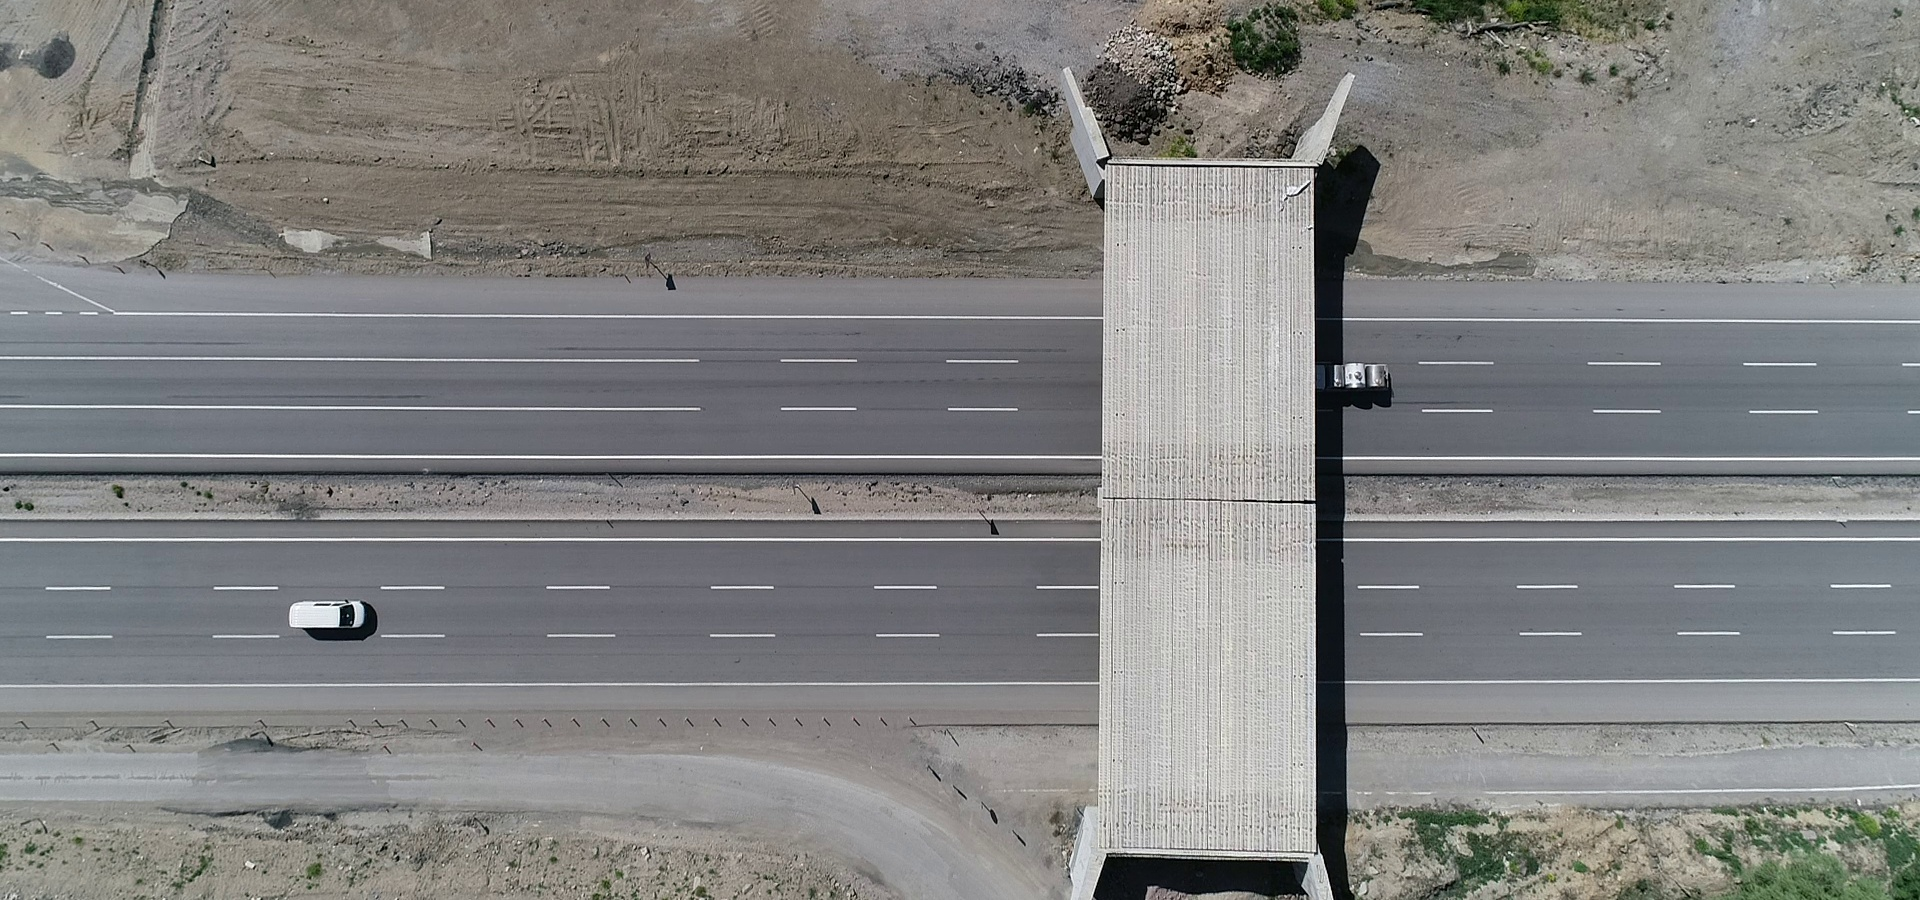arac: (285, 591, 383, 629), (1318, 358, 1392, 400)
